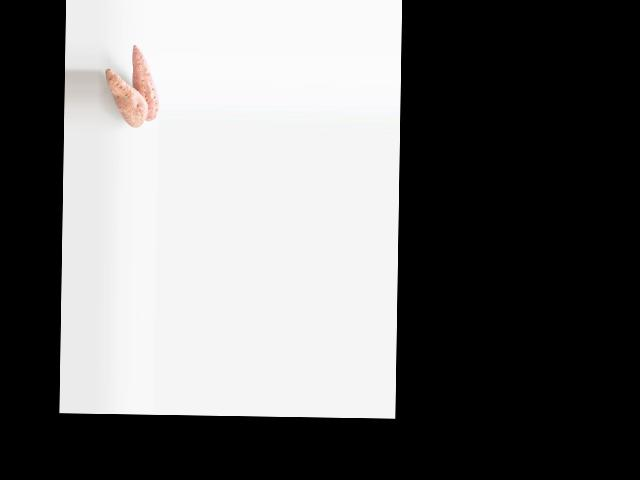sweet_potato: (131, 49, 158, 120)
